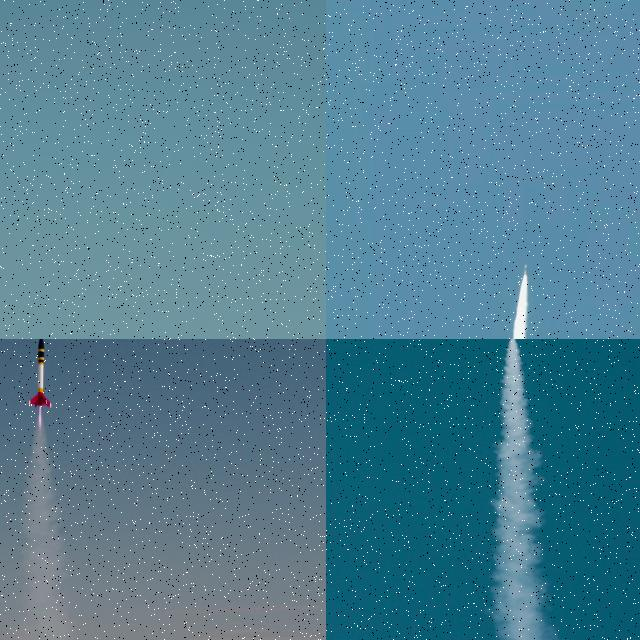Rocket: (28, 339, 53, 407), (524, 264, 528, 277)
